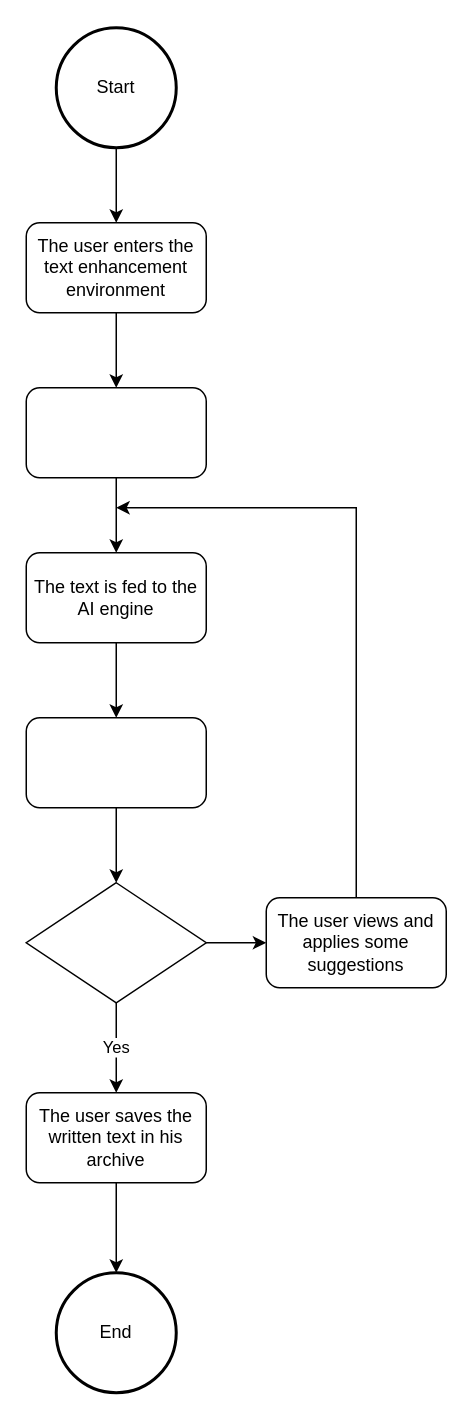
Some shapes in this 473 by 1419 pixel diagram are drawn without their labels. The shapes that lost their labels are listed below. From the top down, each one's box as (x1, y1, x2, y2) in pixels, then its label:
(25, 386, 206, 478): The user chooses parameters about the tone and the context
(25, 716, 206, 808): The corrections and enhancements are shown to the user
(25, 881, 206, 1003): Is the user satisfied with the text?
